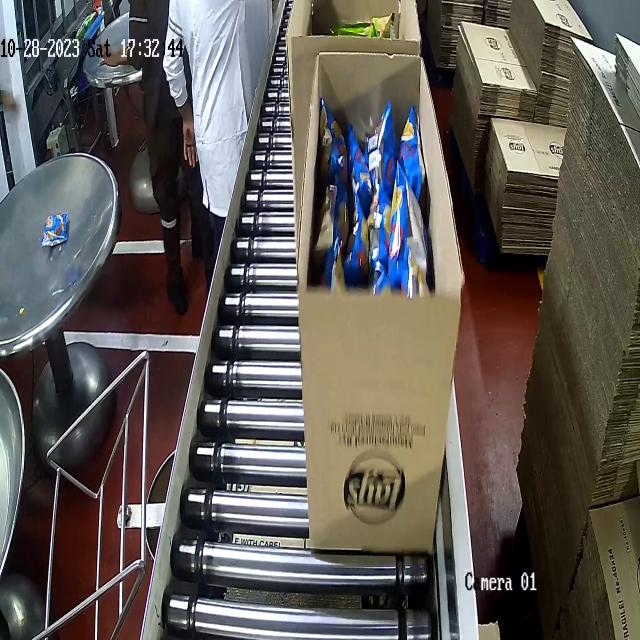PAPRIKA: (321, 84, 436, 298)
